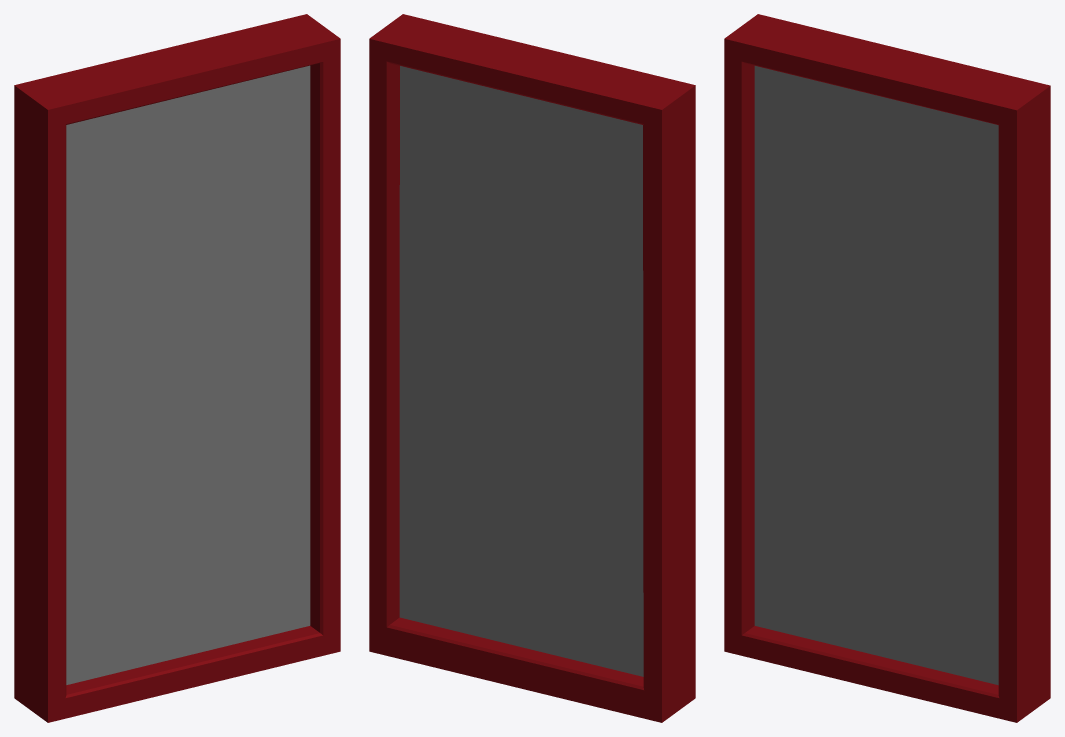
File: SM_MH_01_Wood_01_Wall_Half_V_01.fbx
The picture shows the model from 3 angles, left to right: view 1: azimuth 30°, elevation 25°; view 2: azimuth 150°, elevation 25°; view 3: azimuth 330°, elevation 25°; orthographic projection.
Visible parts, largest first — view 1: SM_MH_01_Wood_01_Wall_Half_V_01_LOD0; view 2: SM_MH_01_Wood_01_Wall_Half_V_01_LOD0; view 3: SM_MH_01_Wood_01_Wall_Half_V_01_LOD0.
Boxes of the visible parts, x1=… form: SM_MH_01_Wood_01_Wall_Half_V_01_LOD0: x1=14, y1=14, x2=340, y2=722; SM_MH_01_Wood_01_Wall_Half_V_01_LOD0: x1=369, y1=14, x2=695, y2=722; SM_MH_01_Wood_01_Wall_Half_V_01_LOD0: x1=724, y1=14, x2=1050, y2=722.
Size of what is drawn, in the model's own units: 150 by 300 by 30.
